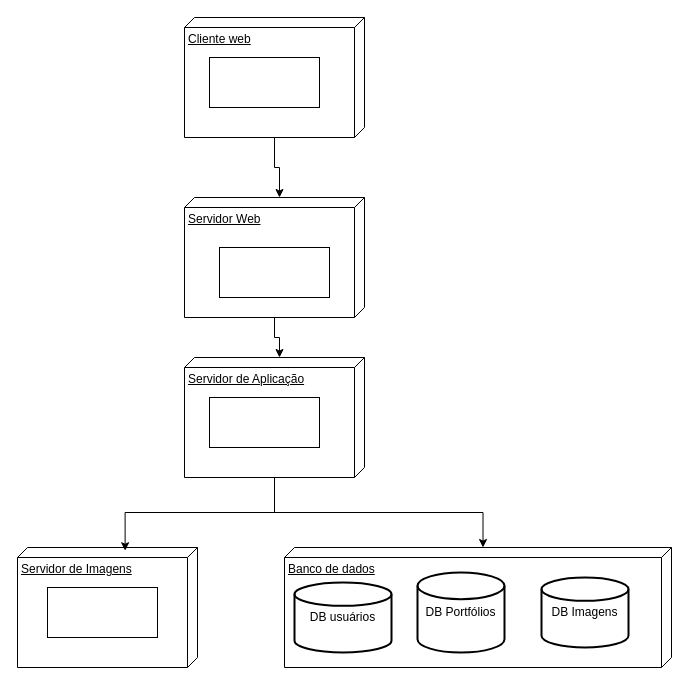
This 689x685 diagram has some shape labels left out. The shapes that lost their labels are listed below. From the top down, each one's centre as x and y in pixels, then its label:
At (x=264, y=82): "Navegador Web".
At (x=274, y=272): "App FrontEnd".
At (x=264, y=422): "Api Backend".
At (x=102, y=612): "Processamento Anti-ia".
